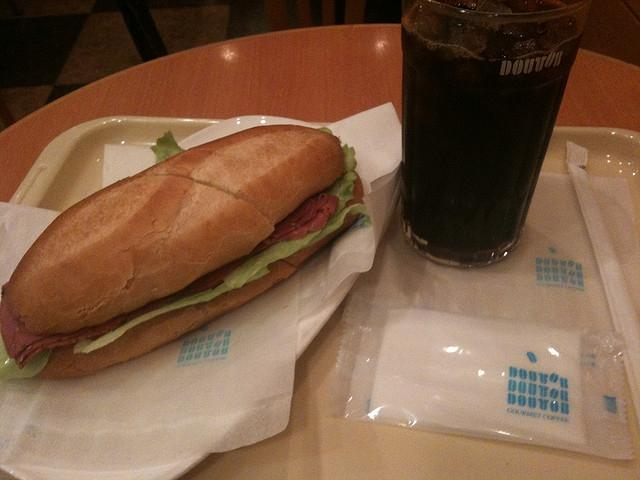lettuce: (2, 266, 270, 381), (222, 228, 322, 288), (299, 172, 372, 250), (150, 131, 186, 164)
